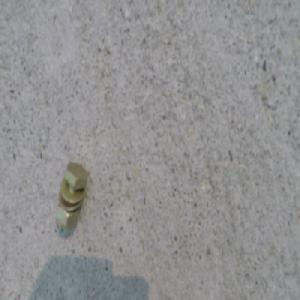BoltNutSet: (54, 157, 86, 229)
